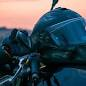helmets: (23, 4, 86, 64)
